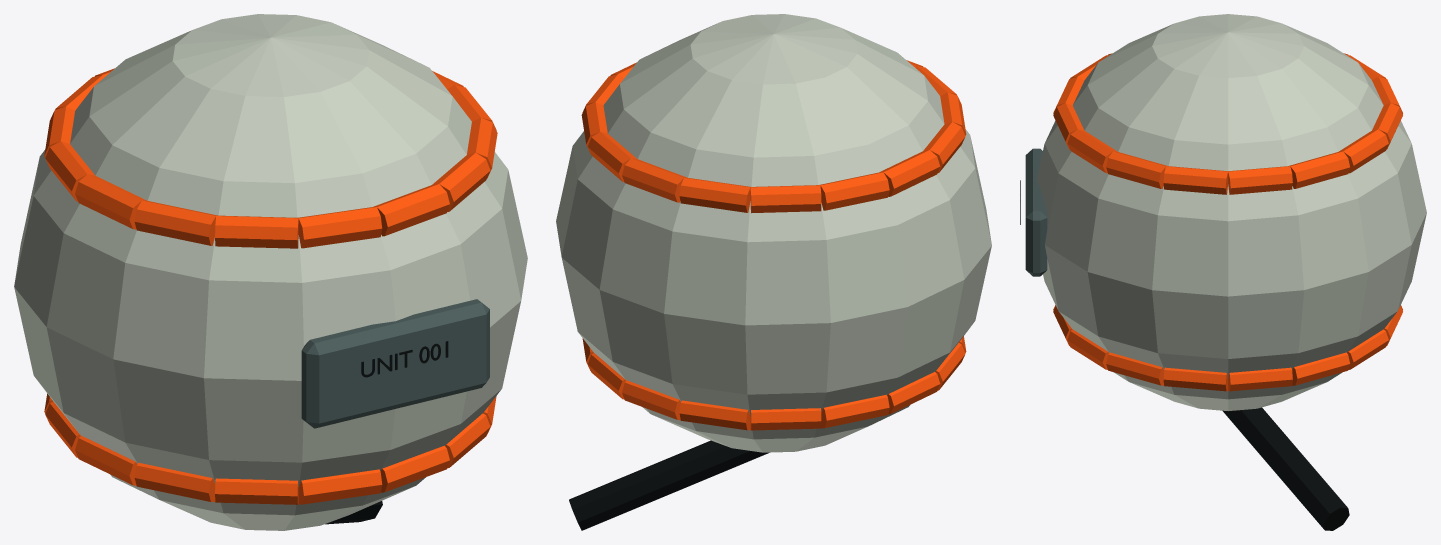
Rendered from SM_MP_Core_Pod.fbx.
3 views of the same model, side by side, from view 1: azimuth 30°, elevation 25°; view 2: azimuth 150°, elevation 25°; view 3: azimuth 270°, elevation 25° (orthographic). The views are drawn at different scales.
Visible parts, largest first — view 1: SM_MP_Core_Pod; view 2: SM_MP_Core_Pod; view 3: SM_MP_Core_Pod.
Part boxes in pixels (left/top/right/bottom): SM_MP_Core_Pod: left=14, top=14, right=527, bottom=530; SM_MP_Core_Pod: left=556, top=14, right=991, bottom=530; SM_MP_Core_Pod: left=1020, top=14, right=1426, bottom=530.
Bounding box in the file's own units: 110 × 113 × 134.
1 material, 1 textured.
